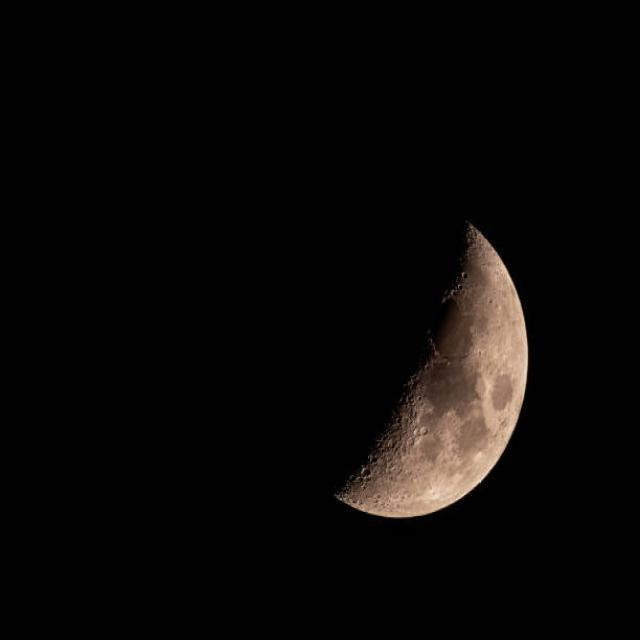moon: (274, 205, 530, 521)
